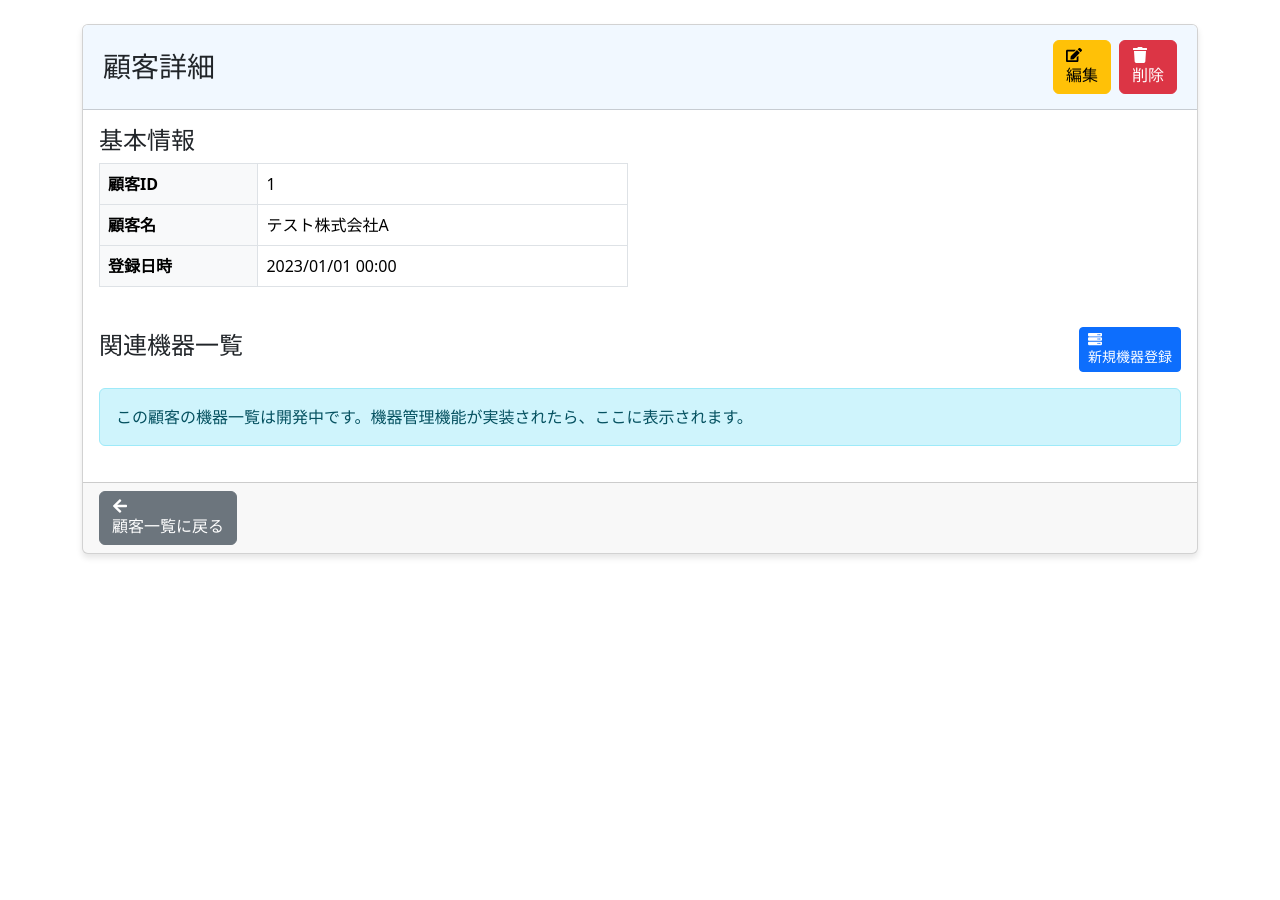
CustomerDetails Component › opens delete modal when delete button is clicked
Click the button "削除" at (1148, 67), box [1119,40,1177,94]
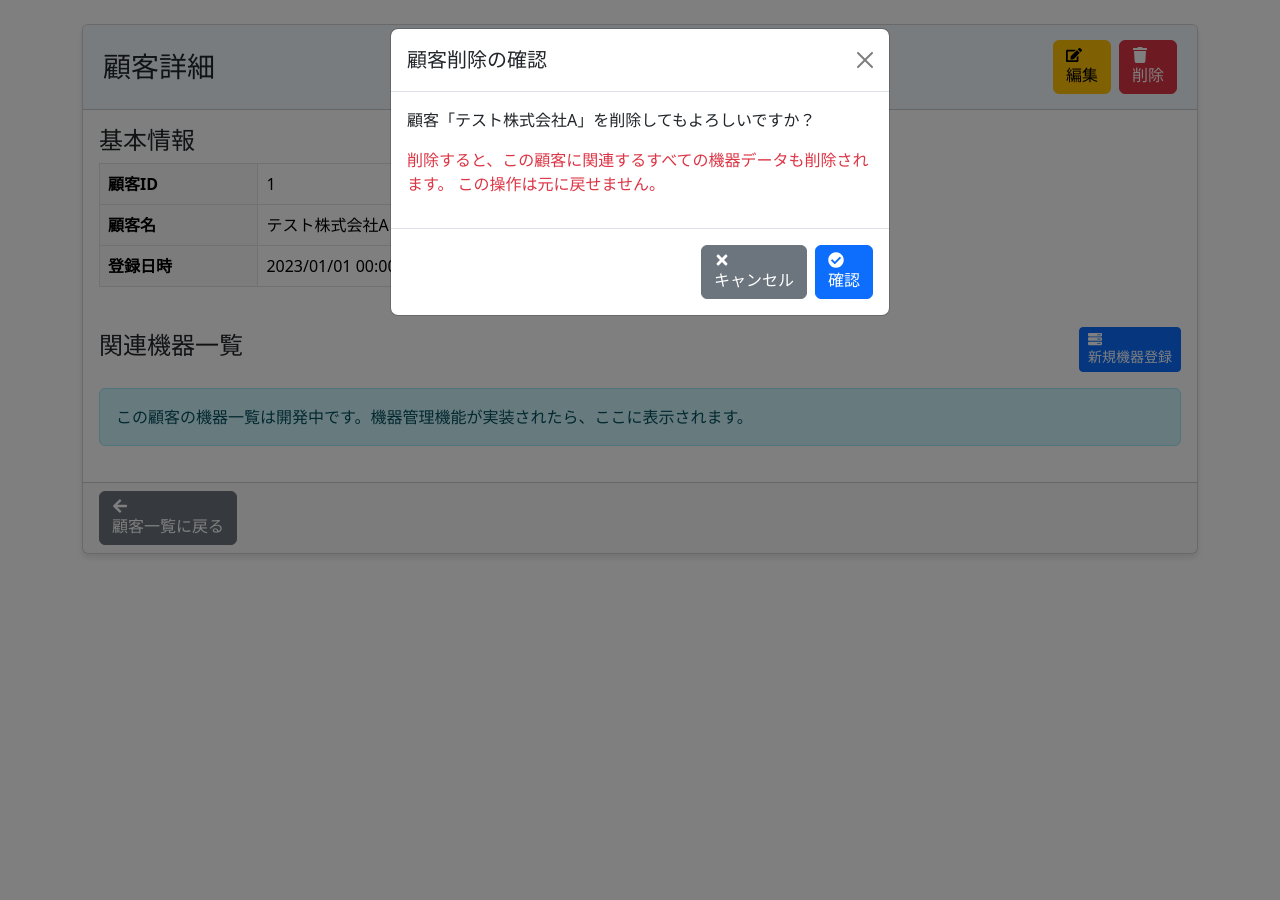
expect the heading "顧客削除の確認" is shown: met, box [407,45,547,75]
